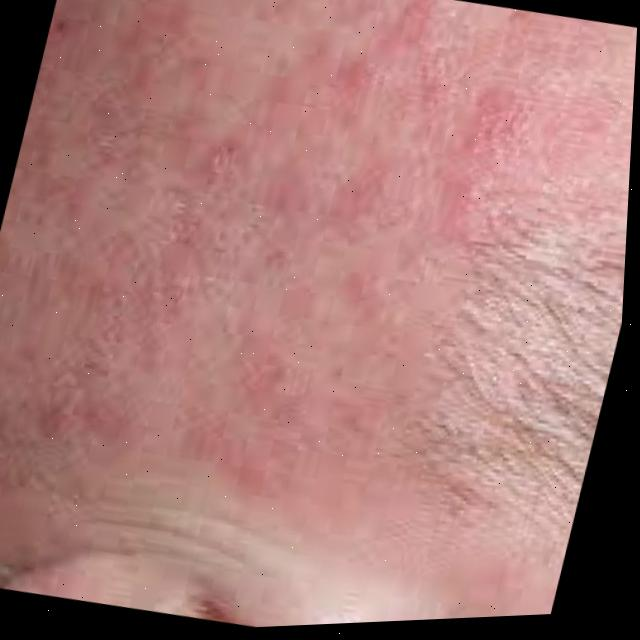Eczema: (0, 0, 599, 532)
